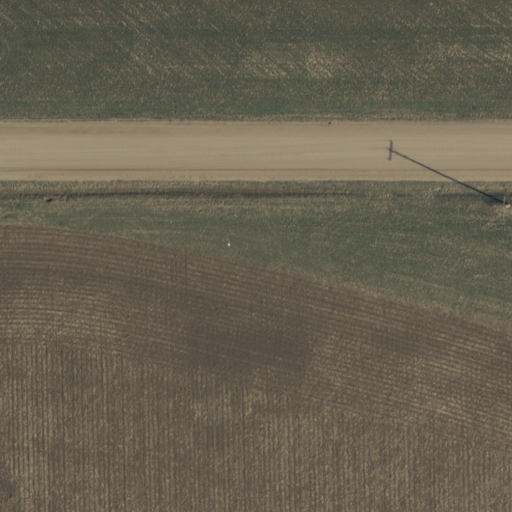DT: (498, 193, 511, 220)
